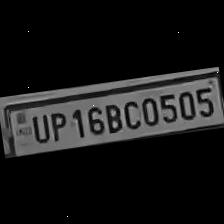0: (137, 94, 159, 128), (174, 86, 196, 120)
1: (66, 106, 88, 140)
5: (191, 83, 216, 119), (154, 89, 178, 124)
6: (83, 101, 106, 136)
B: (101, 99, 124, 134)
C: (119, 96, 142, 132)
P: (45, 107, 70, 144)
U: (27, 110, 52, 145)
